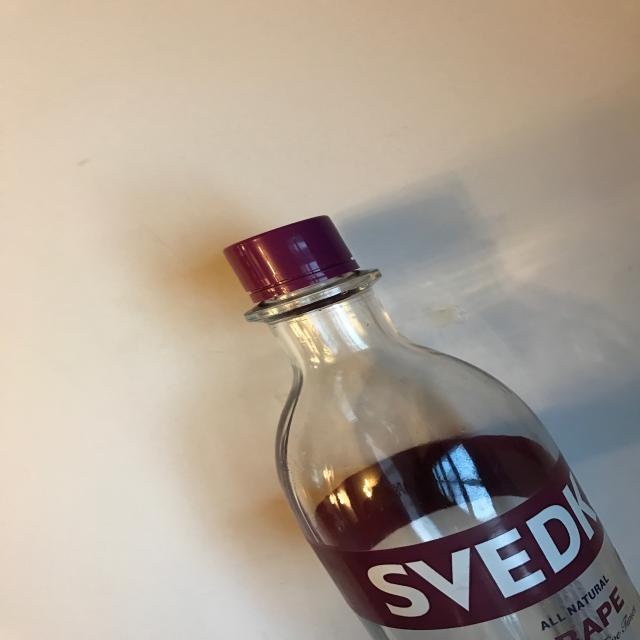glass: (222, 214, 639, 639)
